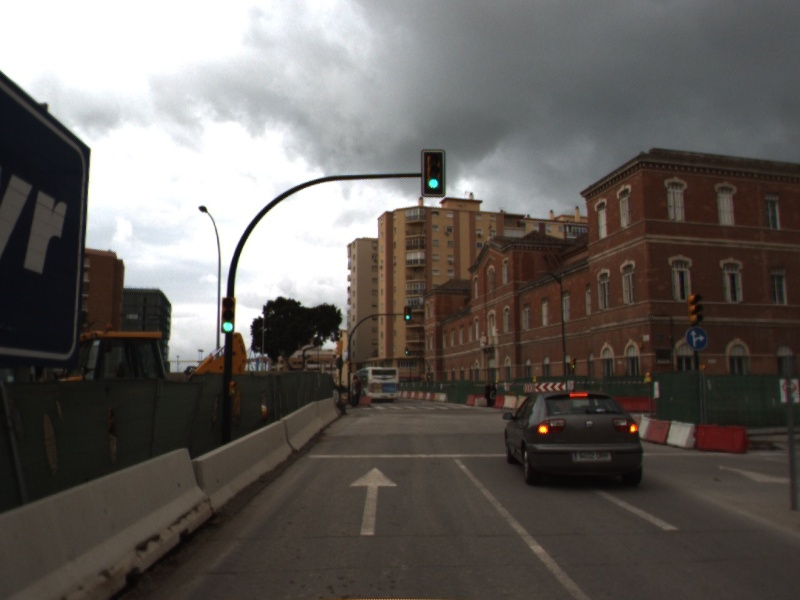STRAIGHT: (347, 465, 400, 537)
